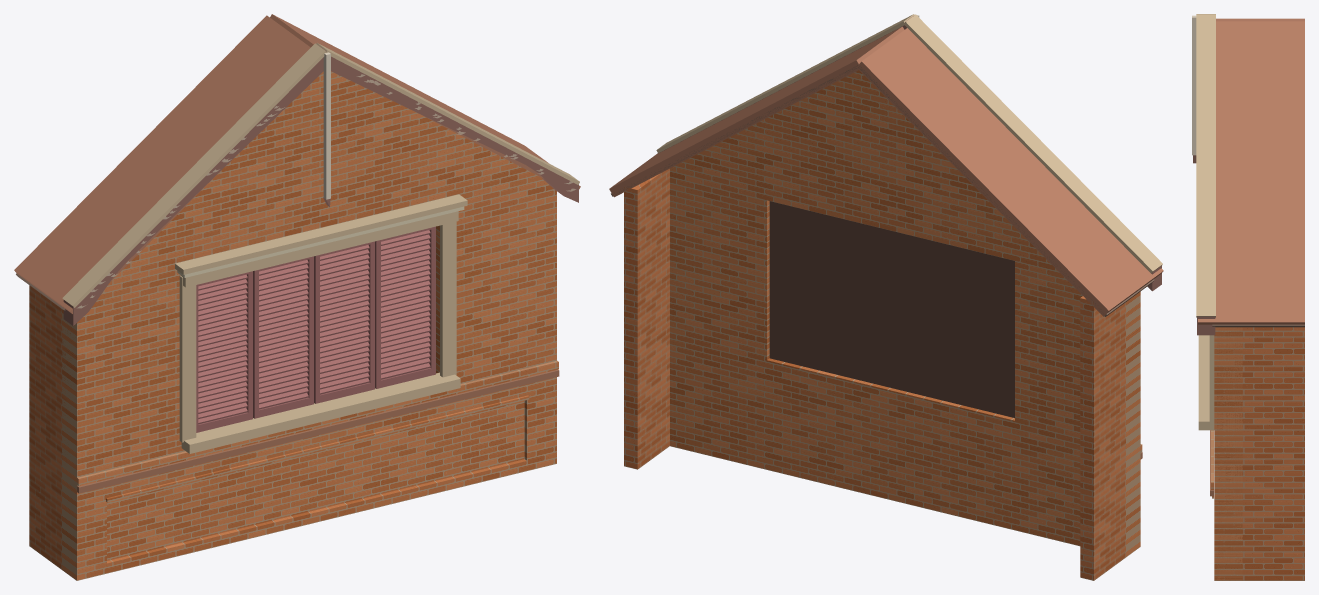
Rendered from pingjiang-no3-gable-near.glb.
The picture shows the model from 3 angles, left to right: view 1: azimuth 30°, elevation 25°; view 2: azimuth 150°, elevation 25°; view 3: azimuth 270°, elevation 25°; orthographic projection. The views are drawn at different scales.
Visible parts, largest first — view 1: 上海特别市市政府旧址3号楼砖山墙与四扇百叶; view 2: 上海特别市市政府旧址3号楼砖山墙与四扇百叶; view 3: 上海特别市市政府旧址3号楼砖山墙与四扇百叶.
Boxes of the visible parts, x1,y1,x2,y2 form: 上海特别市市政府旧址3号楼砖山墙与四扇百叶: (14, 14, 580, 580); 上海特别市市政府旧址3号楼砖山墙与四扇百叶: (609, 14, 1163, 580); 上海特别市市政府旧址3号楼砖山墙与四扇百叶: (1192, 14, 1304, 580).
Bounding box in the file's own units: 5.45 × 4.88 × 1.09.
Materials: 12 (2 with a texture image).
